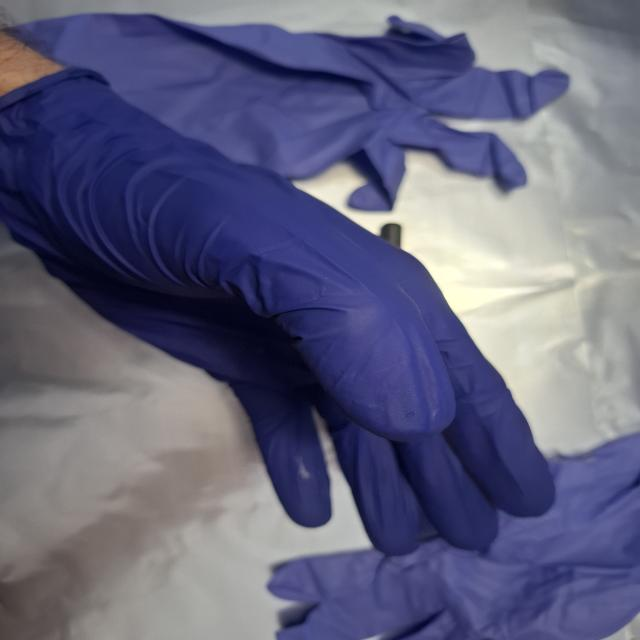glove_on: (3, 61, 563, 560)
